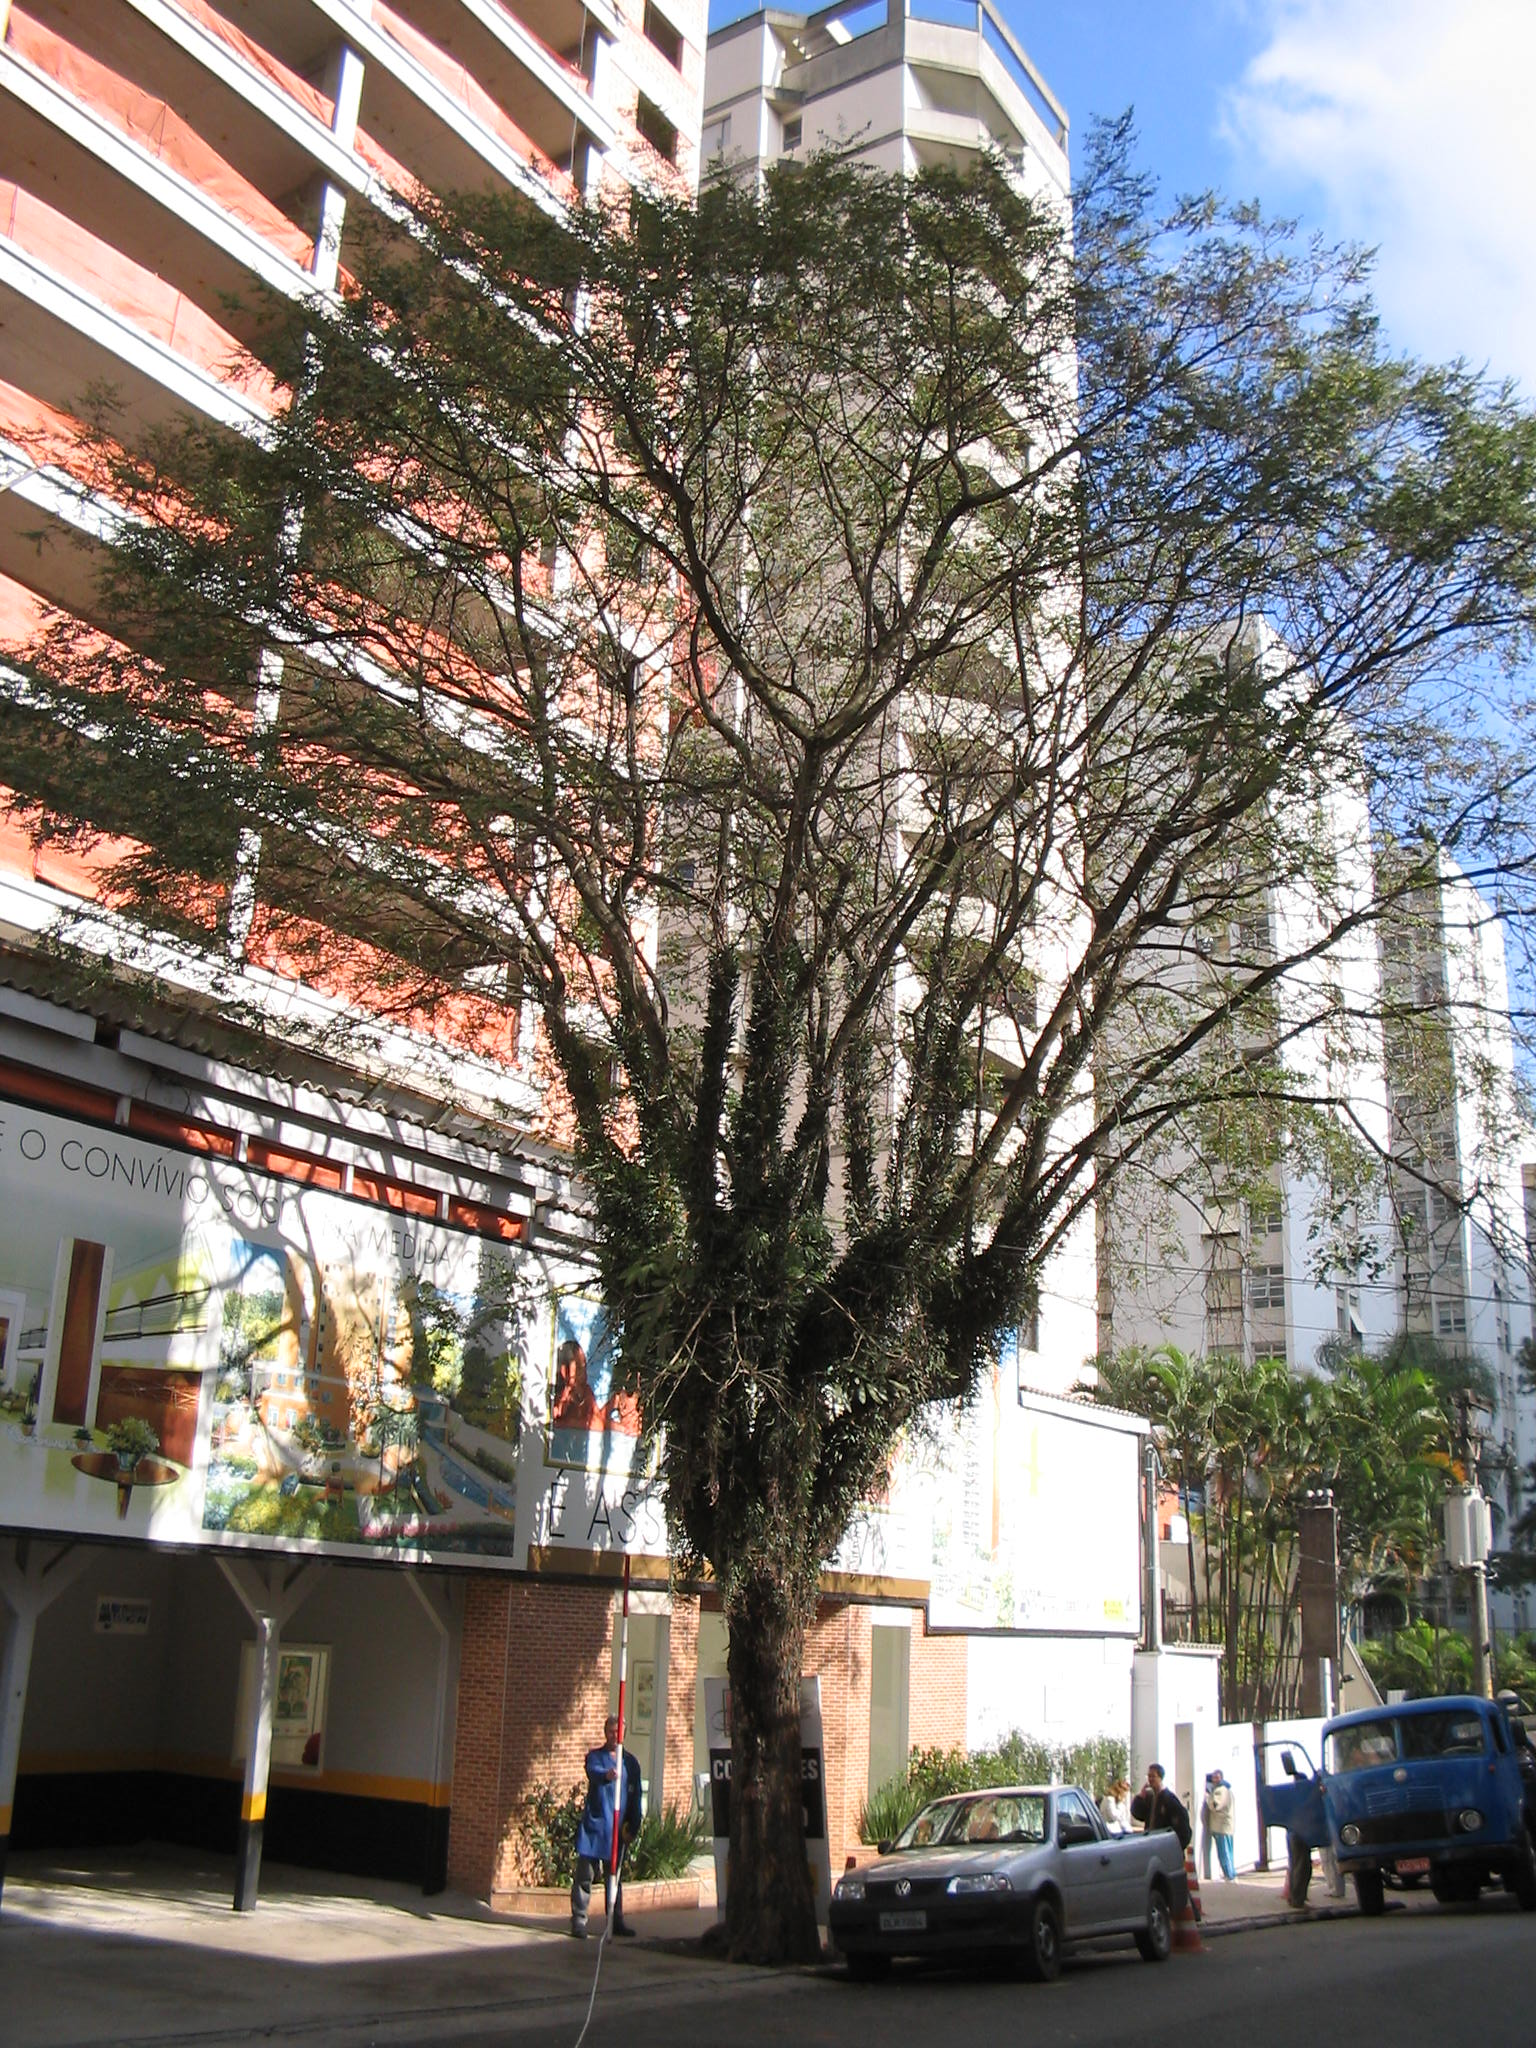crown: (18, 100, 1536, 1311)
stem: (671, 1587, 865, 1963)
stick: (594, 1555, 653, 1942)
tree: (3, 100, 1534, 1971)
